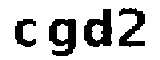2: (117, 6, 149, 50)
c: (13, 12, 37, 50)
d: (82, 5, 113, 51)
g: (47, 16, 78, 60)
